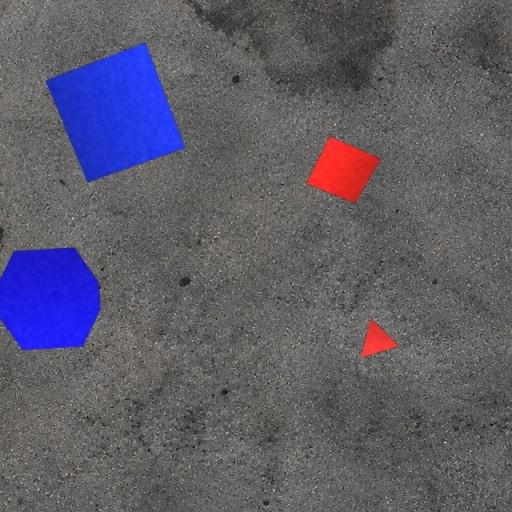BLUE_SQUARE: (44, 42, 186, 183)
RED_SQUARE: (306, 136, 382, 204)
